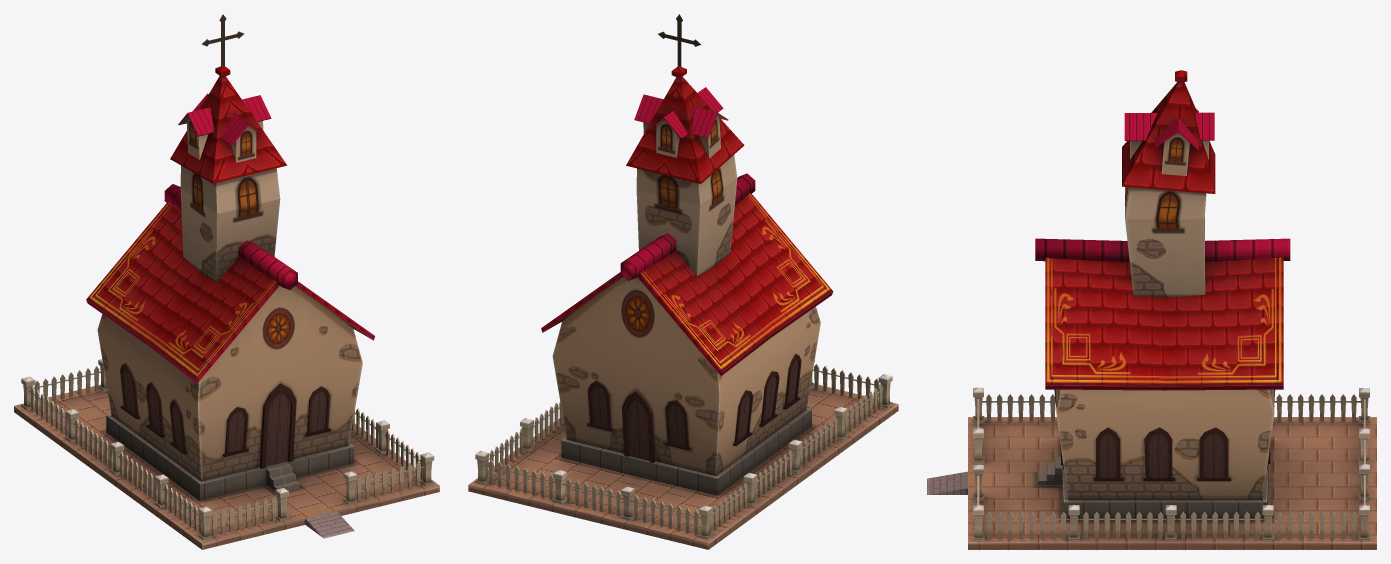
File: Church.FBX
3 renders of one model, left to right at view 1: azimuth 30°, elevation 25°; view 2: azimuth 150°, elevation 25°; view 3: azimuth 270°, elevation 25°, orthographic. The views are drawn at different scales.
Visible parts, largest first — view 1: Church; view 2: Church; view 3: Church.
Part boxes in pixels (<box>): Church: <box>14,14,439,549</box>; Church: <box>468,14,898,549</box>; Church: <box>927,70,1376,549</box>.
Size of the model in its own units: 264 by 463 by 399.
